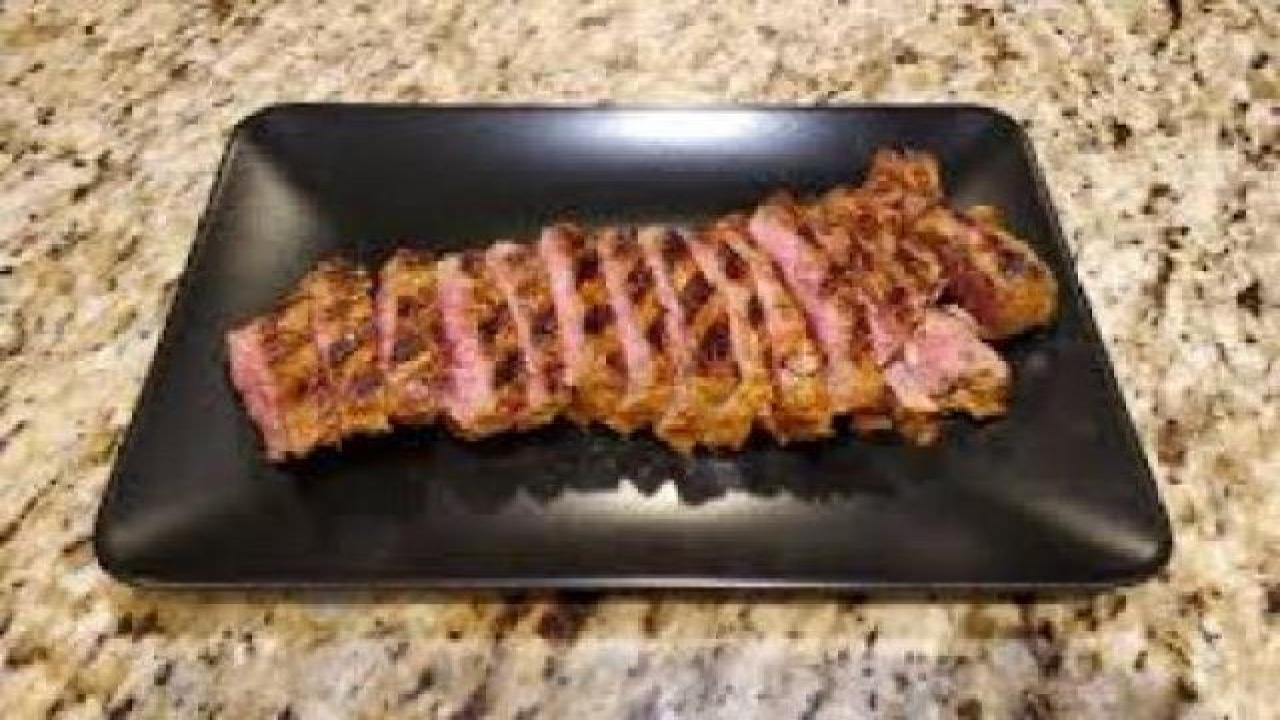Carne: (135, 93, 1134, 498)
